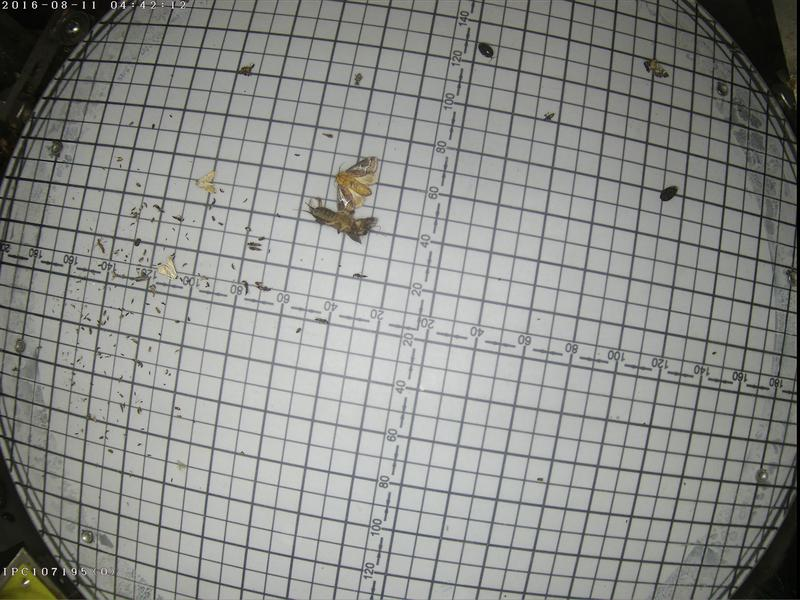Gryllotalpa orientalis: (295, 195, 387, 243)
Meadow borer: (153, 253, 177, 279)
